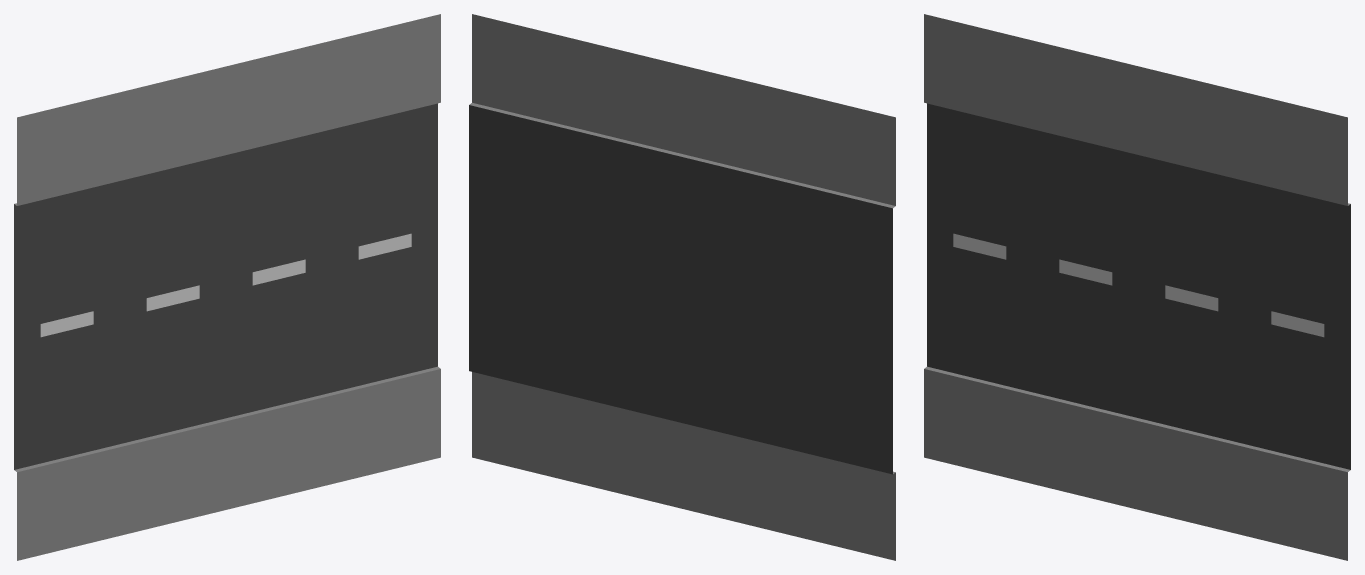
Rendered from Road.obj.
The picture shows the model from 3 angles, left to right: view 1: azimuth 30°, elevation 25°; view 2: azimuth 150°, elevation 25°; view 3: azimuth 330°, elevation 25°; orthographic projection.
Parts seen in each view (by area): view 1: Object_2.002; view 2: Object_2.002; view 3: Object_2.002.
Boxes of the visible parts, <box> form: Object_2.002: <box>14,14,440,560</box>; Object_2.002: <box>469,14,895,560</box>; Object_2.002: <box>924,14,1350,560</box>.
Bounding box in the file's own units: 1 × 1 × 0.0125.
Materials: 1 (1 with a texture image).
